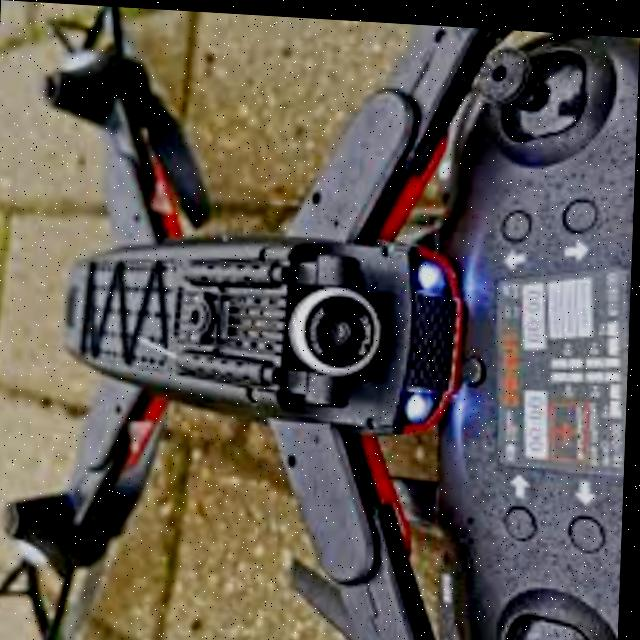drone: (4, 1, 501, 640)
